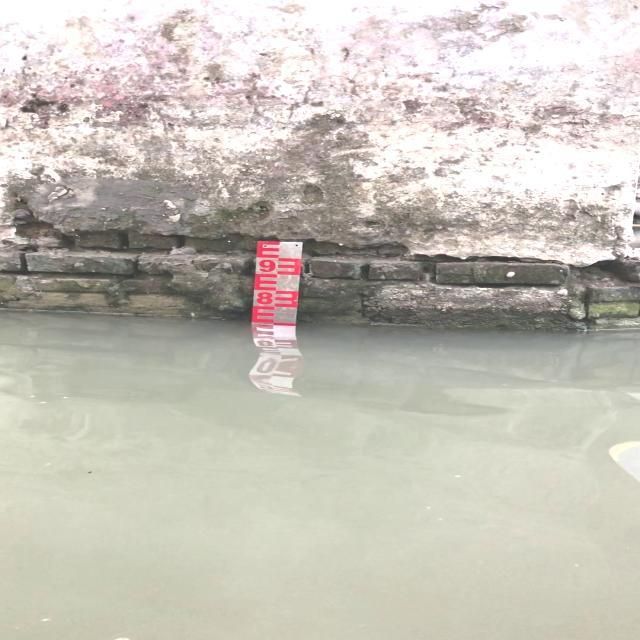ruler: (240, 231, 309, 349)
value: (253, 288, 277, 310), (257, 255, 278, 276)
